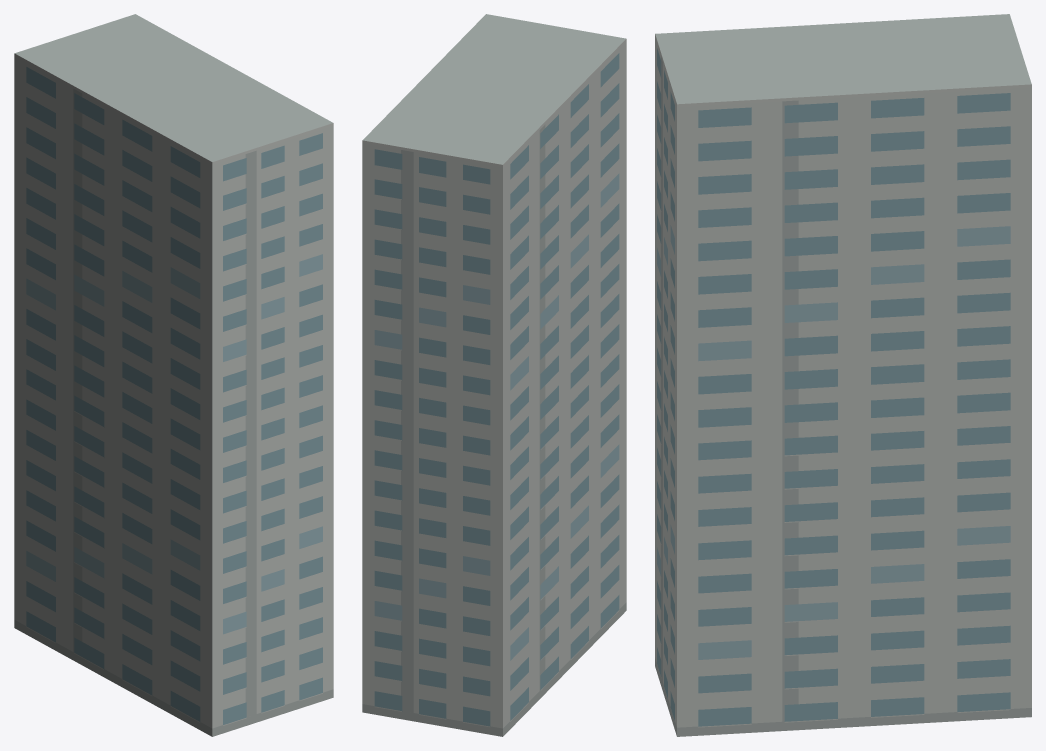
File: residential-780d33a0-095b-4796-a420-e5b43650a855.glb
3 views of the same model, side by side, from view 1: azimuth 30°, elevation 25°; view 2: azimuth 150°, elevation 25°; view 3: azimuth 270°, elevation 25° (orthographic). The views are drawn at different scales.
Visible parts, largest first — view 1: residential-780d33a0-095b-4796-a420-e5b43650a855.tmp; view 2: residential-780d33a0-095b-4796-a420-e5b43650a855.tmp; view 3: residential-780d33a0-095b-4796-a420-e5b43650a855.tmp.
Boxes of the visible parts, x1=… form: residential-780d33a0-095b-4796-a420-e5b43650a855.tmp: x1=14, y1=14, x2=333, y2=736; residential-780d33a0-095b-4796-a420-e5b43650a855.tmp: x1=362, y1=14, x2=626, y2=736; residential-780d33a0-095b-4796-a420-e5b43650a855.tmp: x1=655, y1=14, x2=1031, y2=736.
Bounding box in the file's own units: 15.61 × 51 × 27.53.
